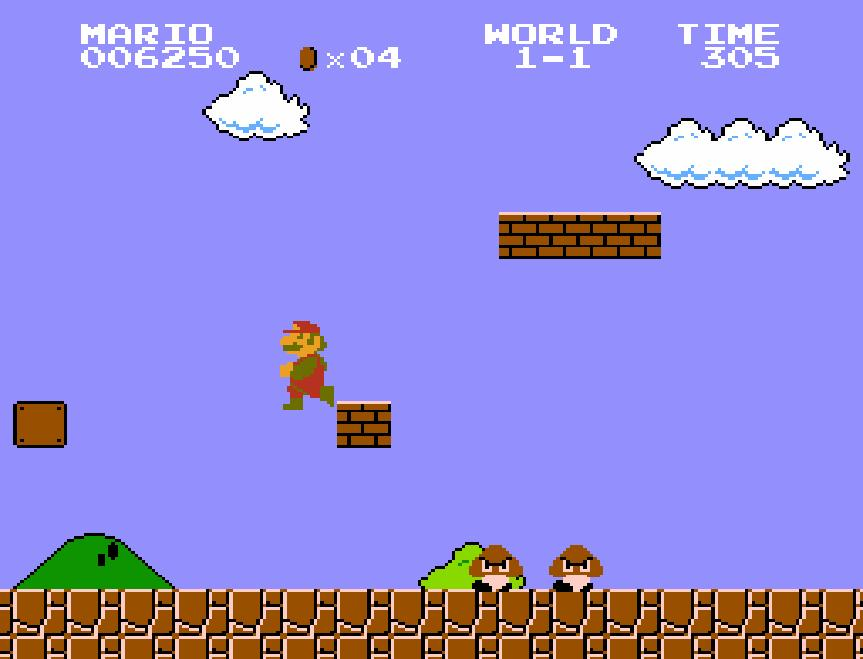big_mario: (278, 313, 336, 411)
